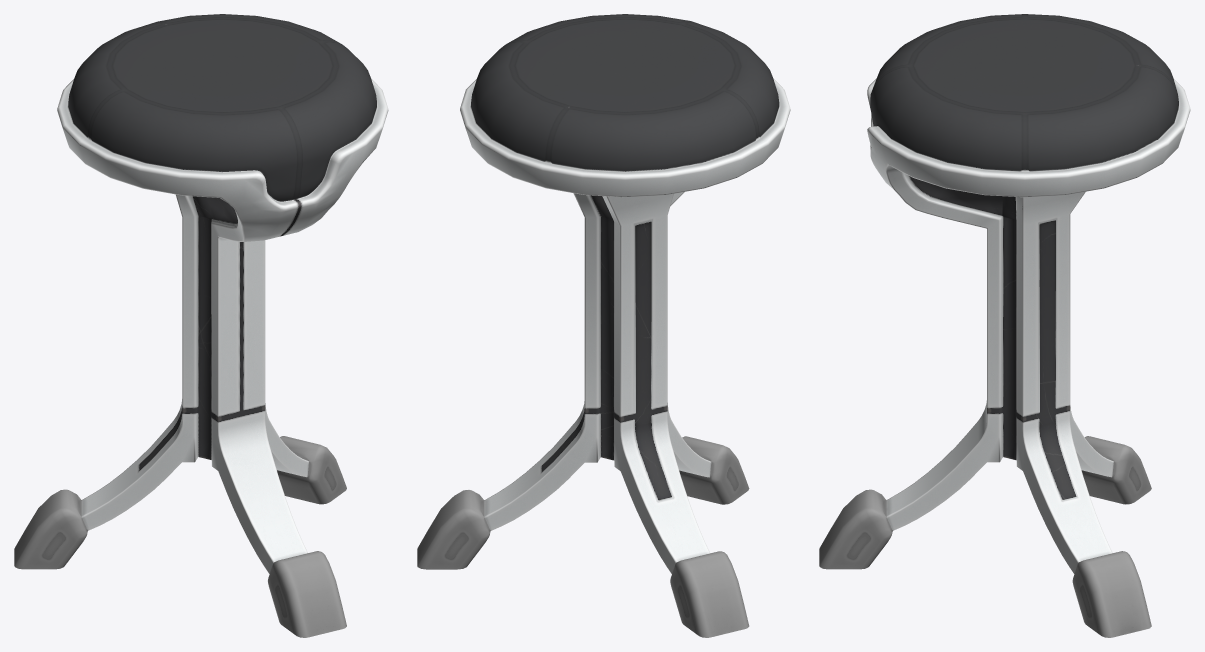
Rendered from Stool01.FBX.
3 views of the same model, side by side, from view 1: azimuth 30°, elevation 25°; view 2: azimuth 150°, elevation 25°; view 3: azimuth 270°, elevation 25° (orthographic).
Parts seen in each view (by area): view 1: Stool01; view 2: Stool01; view 3: Stool01.
Part boxes in pixels (x1,y1,x2,y2): Stool01: (14,14,388,637); Stool01: (417,14,790,637); Stool01: (819,14,1190,637).
Size of what is drawn, in the model's own units: 0.4977 by 0.7086 by 0.4845.
